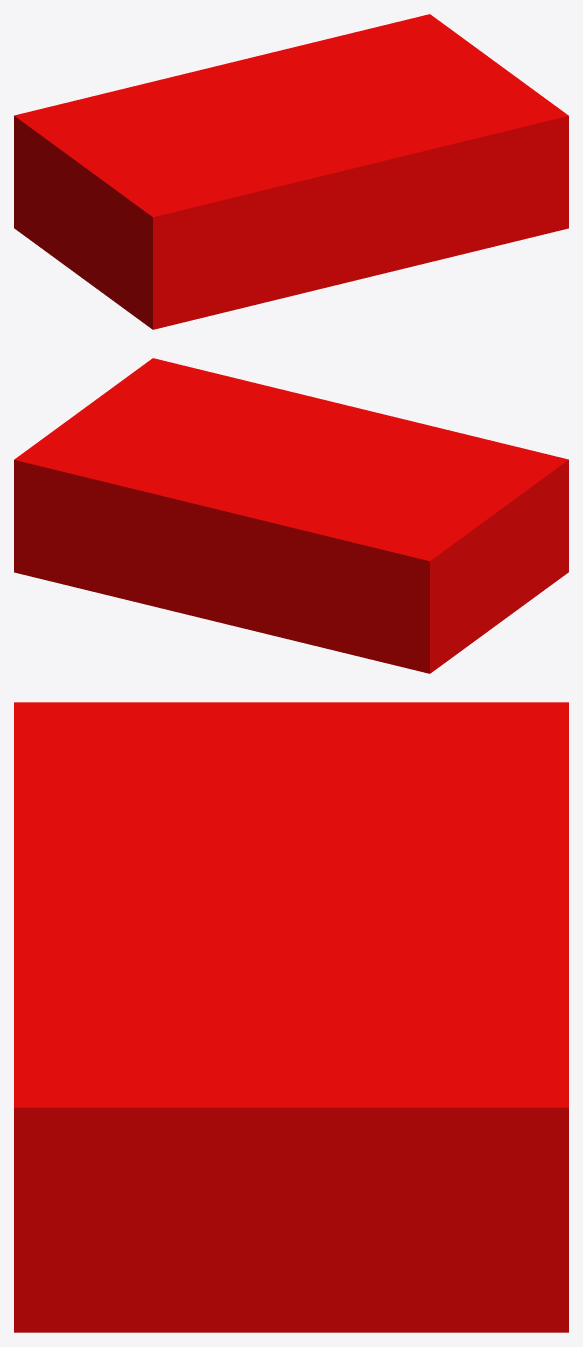
Rendered from metatarsal2_lv_col.dae.
3 renders of one model, top to bottom at view 1: azimuth 30°, elevation 25°; view 2: azimuth 150°, elevation 25°; view 3: azimuth 270°, elevation 25°, orthographic. The views are drawn at different scales.
Parts seen in each view (by area): view 1: node0; view 2: node0; view 3: node0.
Part boxes in pixels (bbox=[...]): node0: bbox=[14, 14, 568, 329]; node0: bbox=[14, 358, 568, 673]; node0: bbox=[14, 702, 568, 1332].
Bounding box in the file's own units: 0.0711 × 0.0184 × 0.0411.
